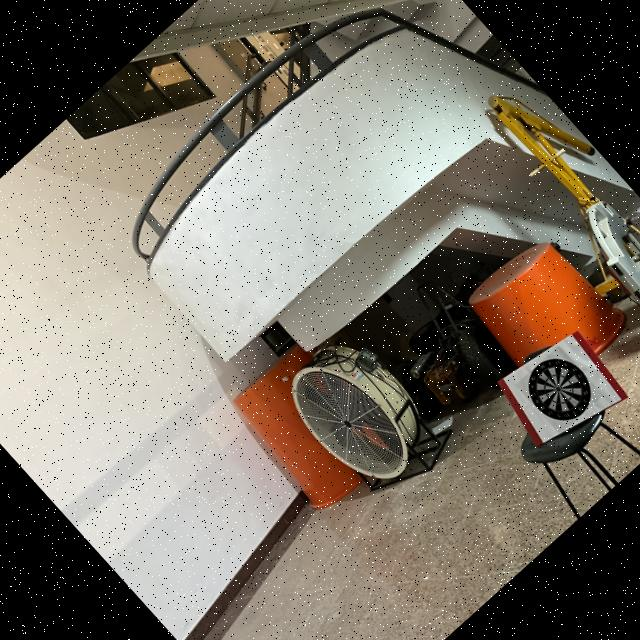archery-targets: (515, 344, 603, 434)
